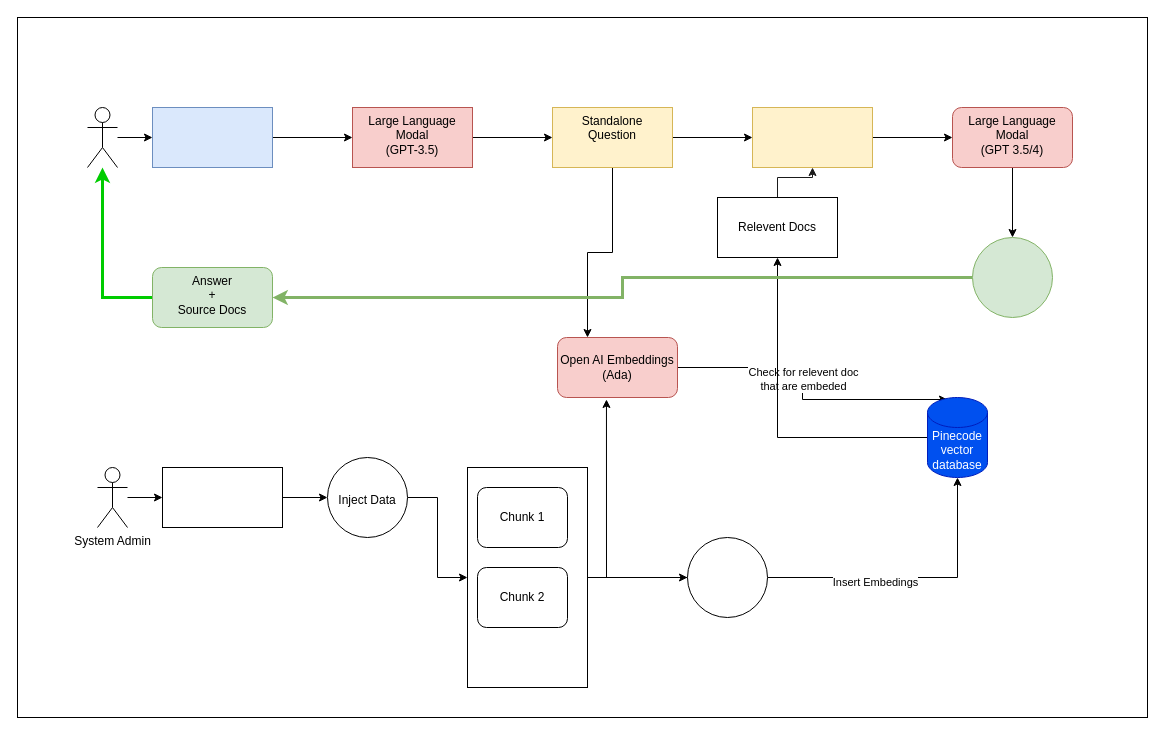
Image size: 1165x735. Some labels were removed from this diagram. Here are the shapes that lost their labels. From the top down, the centre of each, then its label:
point 102,137: User
point 212,137: Chat History + New Question
point 812,137: Standalone Question + Relevent Docs
point 1012,277: Answer
point 222,497: Decides which PDF Docs to be indexed
point 727,577: Create Embedings and upload
